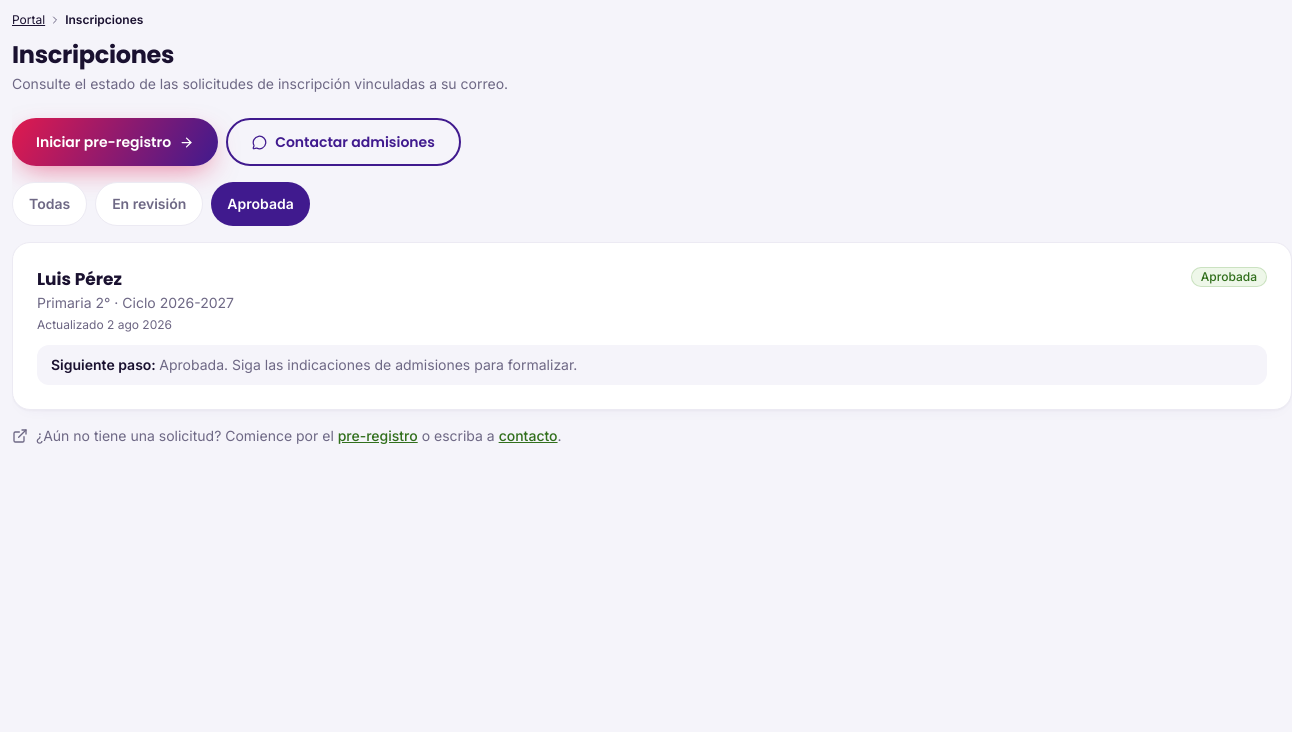
it: InscripcionesPage › filters by estado from the URL chips and shows a filtered empty state
Expected: the text "Luis Pérez" is shown, [37,267,122,291]
Expected: the text "Ana Pérez" is not shown
Click the button "Todas".
click(50, 204)  # box [12,182,87,226]
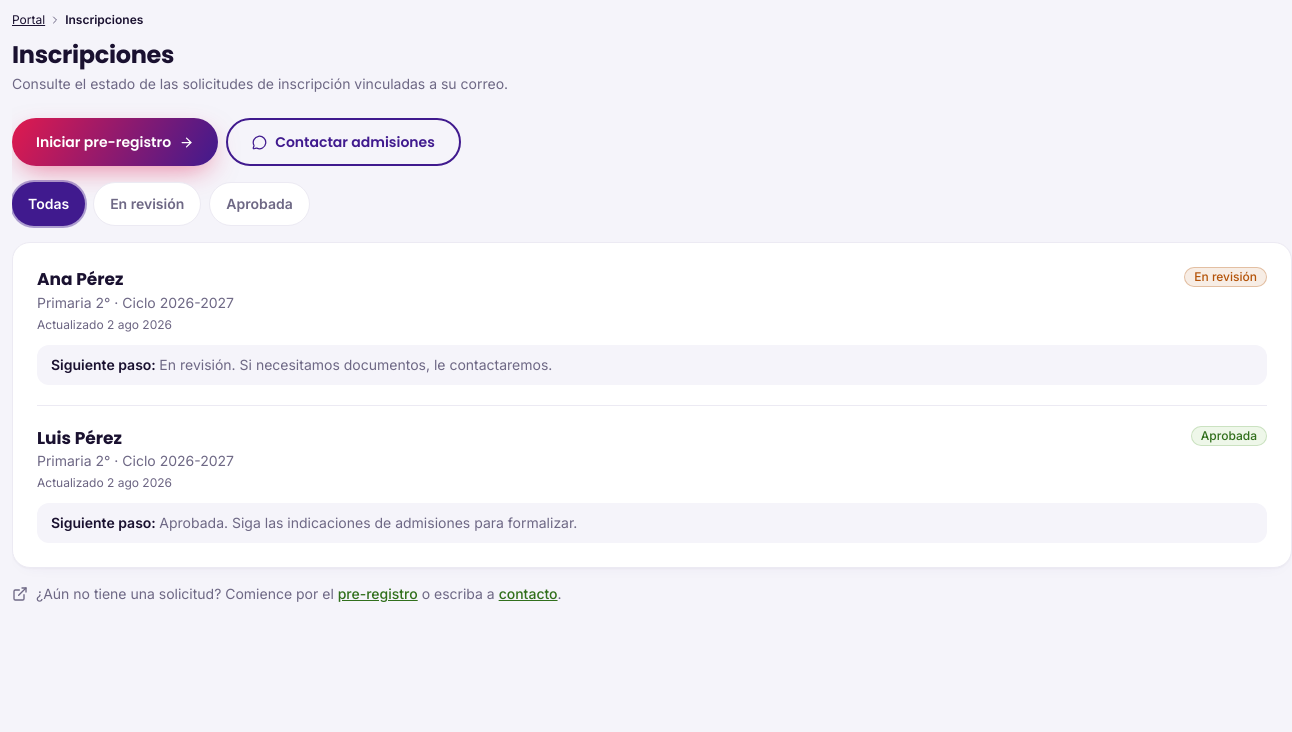
Now the text "Ana Pérez" is shown, box [37,267,123,291]
